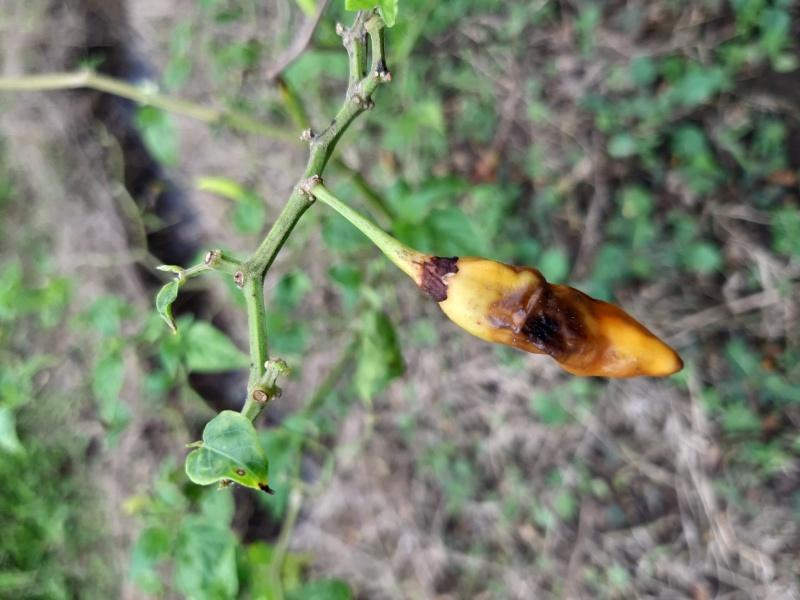antraknosa: (442, 255, 687, 380)
